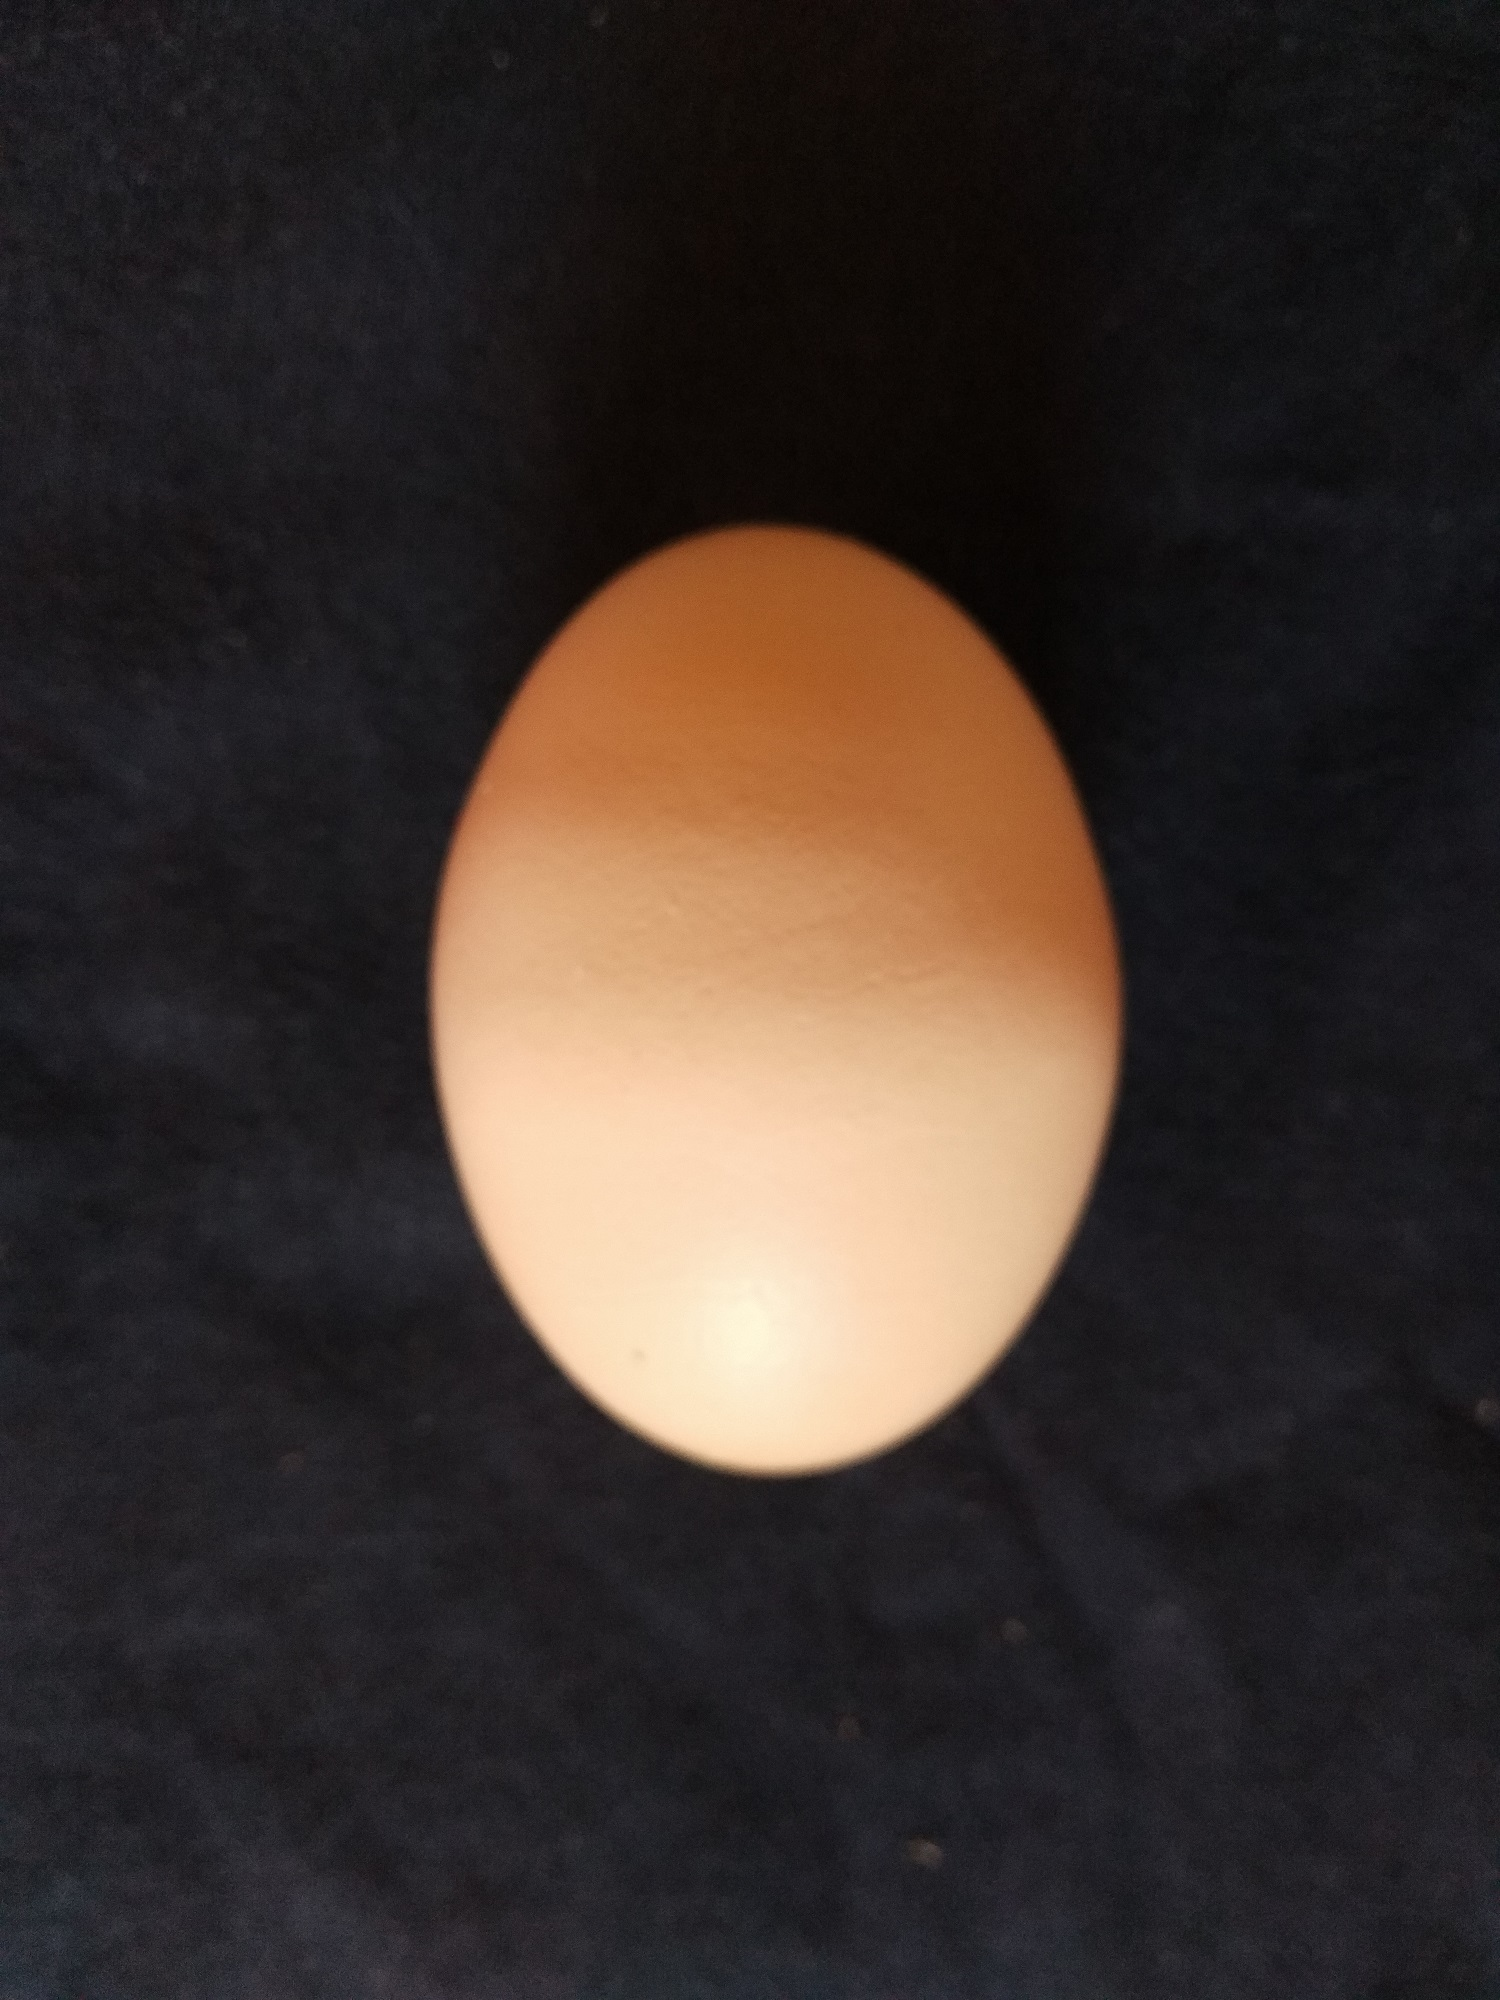Female: (425, 520, 1128, 1491)
